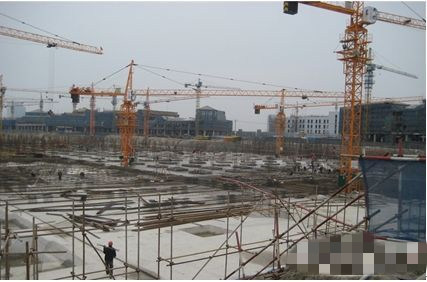person: (103, 240, 118, 276)
